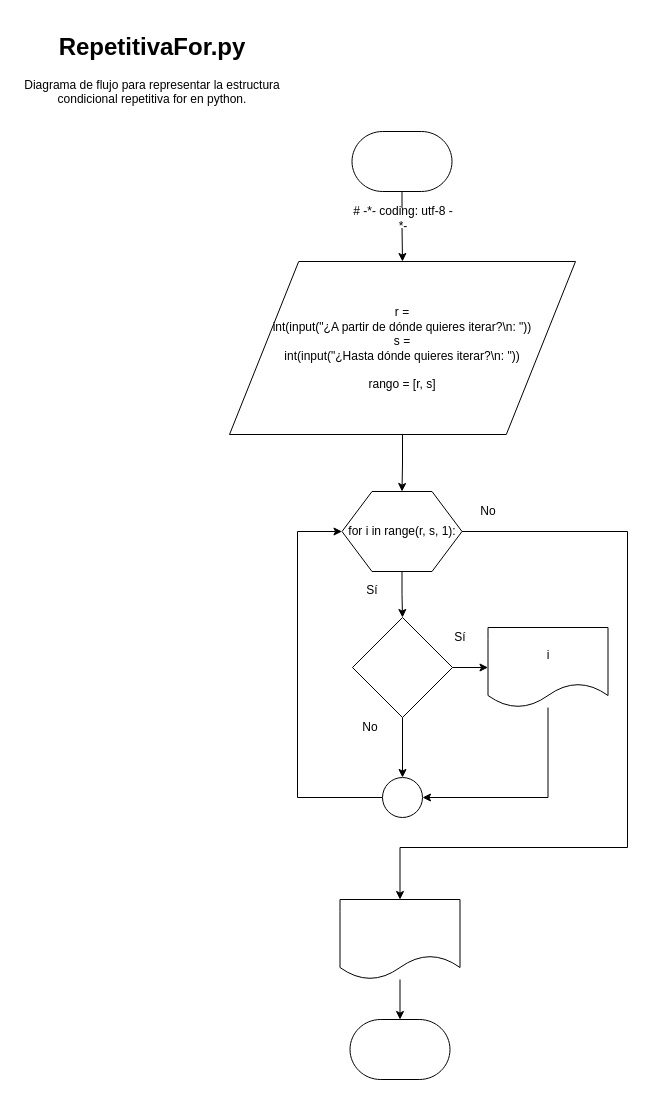
The diagram is 653 pixels wide and 1097 high, and some of its shapes have lost their labels. The centre of each missing label's shape, as x and y in pixels:
"Ya terminé!": (399,939)
not r % 2 == 0: (402,667)
